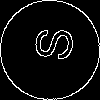S: (25, 25, 74, 62)
